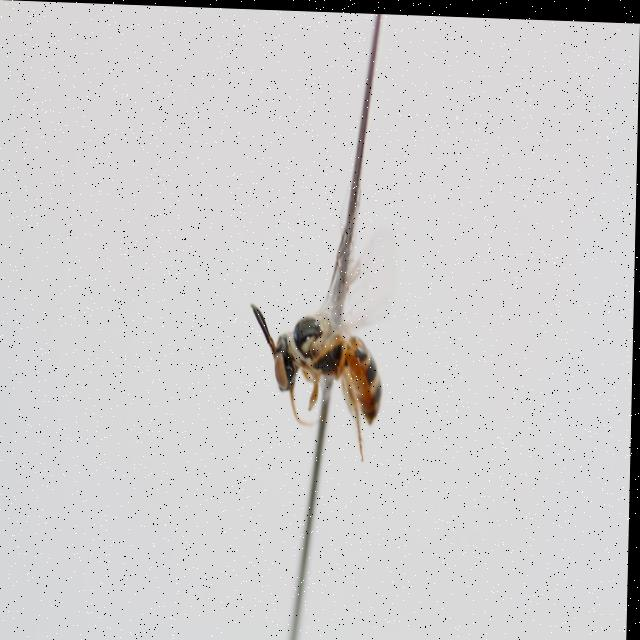Allodapula: (244, 276, 411, 459)
